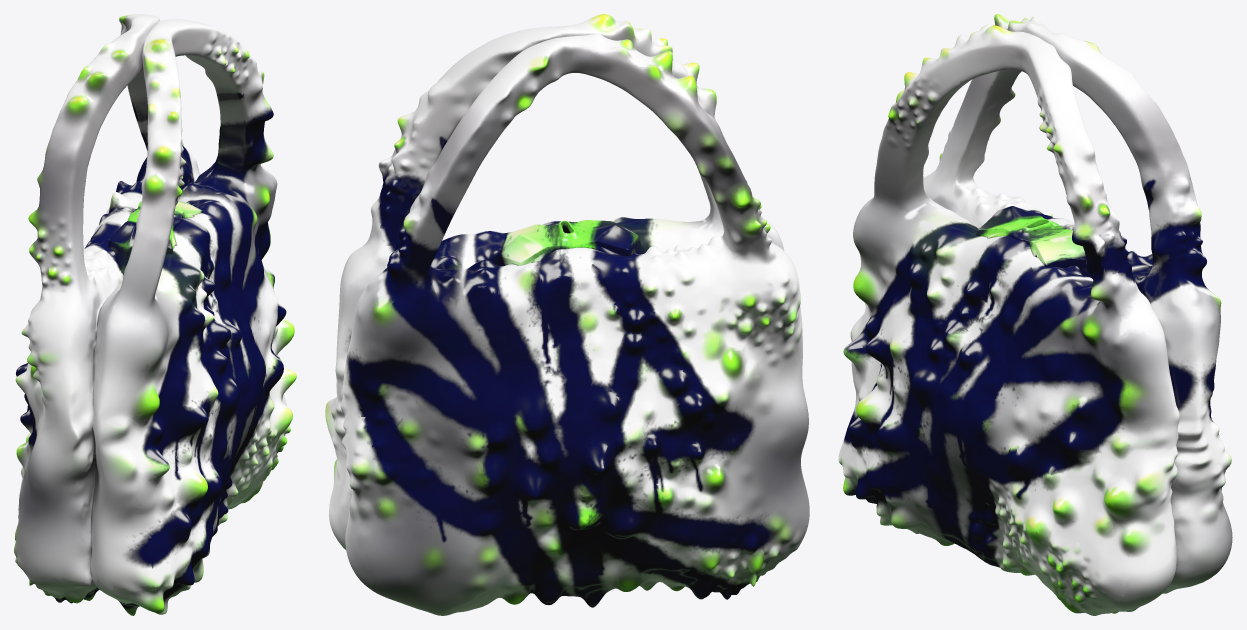
Rendered from grafitti_bag.glb.
3 views of the same model, side by side, from view 1: azimuth 30°, elevation 25°; view 2: azimuth 150°, elevation 25°; view 3: azimuth 270°, elevation 25° (orthographic). The views are drawn at different scales.
Visible parts, largest first — view 1: NEW_Unwrap_Bag; view 2: NEW_Unwrap_Bag; view 3: NEW_Unwrap_Bag.
Boxes of the visible parts, x1,y1,x2,y2 form: NEW_Unwrap_Bag: (14, 14, 296, 615); NEW_Unwrap_Bag: (325, 14, 809, 615); NEW_Unwrap_Bag: (838, 14, 1232, 615).
Bounding box in the file's own units: 22.88 × 32.69 × 21.76.
Materials: 1 (1 with a texture image).
